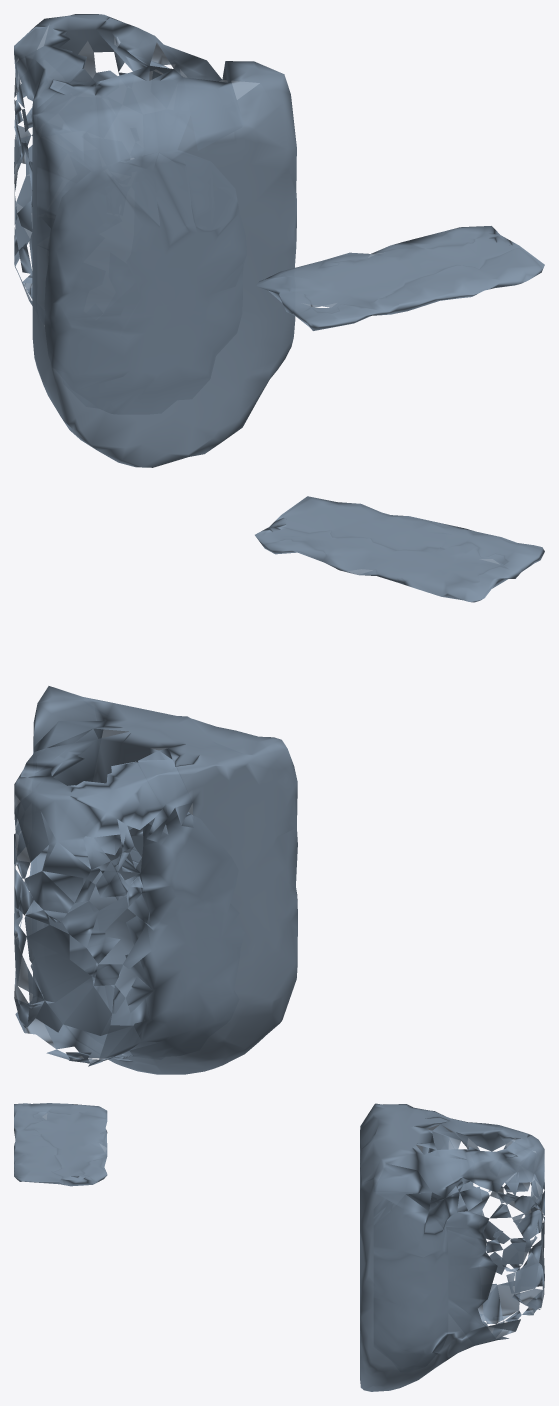
Rendered from toilet_0234_original.obj.
3 views of the same model, one above another, from view 1: azimuth 30°, elevation 25°; view 2: azimuth 150°, elevation 25°; view 3: azimuth 270°, elevation 25° (orthographic). The views are drawn at different scales.
Size of the model in its own units: 0.5425 by 0.7497 by 1.49.
